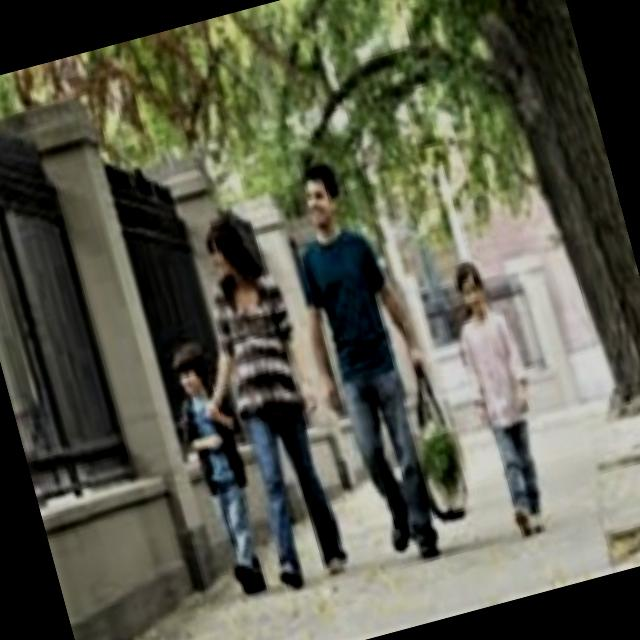Person: (270, 148, 468, 571), (178, 188, 354, 597), (420, 242, 574, 556), (156, 337, 270, 606)
